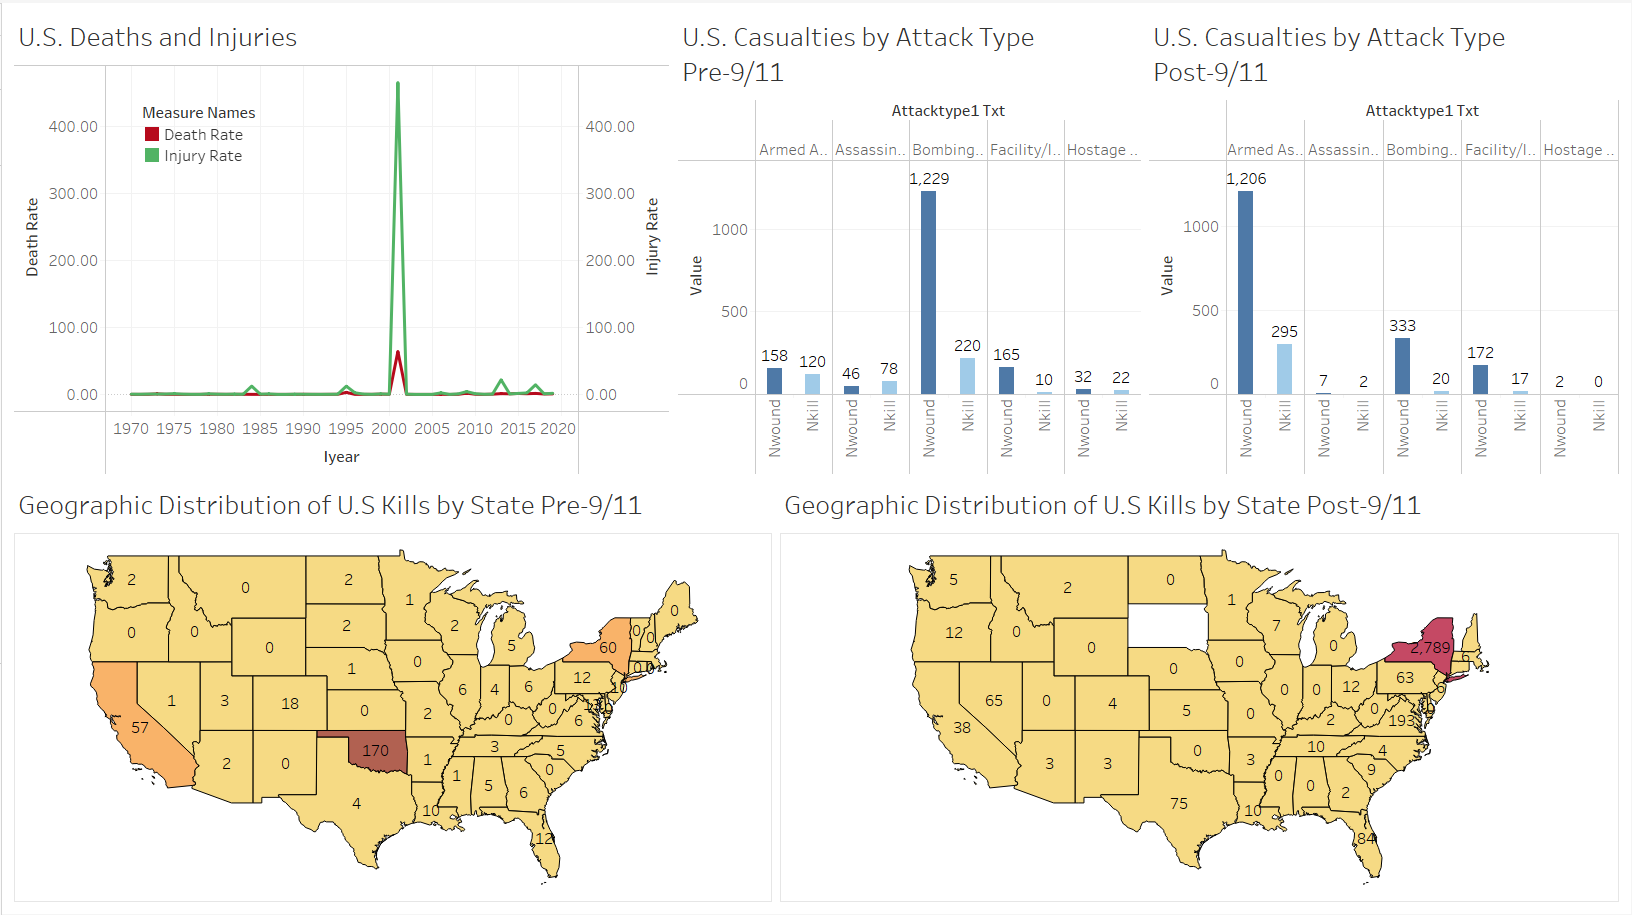

The dashboard page shown, as its layout file describes it:
{"tool":"tableau","page":{"name":"Effects of 9/11 on U.S. Terrorism","canvas":[1000,1000],"units":"permille","ordinal":0},"visuals":[{"type":"worksheet","box":[0,0,1000,1000]},{"type":"worksheet","param":"horz","box":[5.1,8.8,989.9,982.4]},{"type":"worksheet","box":[5.1,8.8,989.9,982.4]},{"type":"worksheet","title":"U.S. Deaths and Injuries","mark":"Automatic","rows":["Calculation_898468179244232705","Calculation_898468179249016834"],"cols":["iyear"],"box":[5.1,8.8,407.2,513.7]},{"type":"worksheet","title":"U.S. Casualties by Attack Type Pre-9/11","mark":"Bar","cols":["attacktype1_txt"],"box":[412.3,8.8,289.4,513.7]},{"type":"worksheet","title":"U.S. Casualties by Attack Type Post-9/11","mark":"Bar","cols":["attacktype1_txt"],"box":[701.7,8.8,293.2,513.7]},{"type":"worksheet","title":"U.S. Deaths and Injuries","mark":"Automatic","rows":["Calculation_898468179244232705","Calculation_898468179249016834"],"cols":["iyear"],"param":"[federated.0vspcdp0v9njc21co1hia1xtu0lf].[:Measure Names]","box":[86.1,108.7,88.7,70.2]},{"type":"worksheet","title":"Geographic Distribution of U.S Kills by State Pre-9/11","mark":"Multipolygon","box":[5.1,522.5,469.9,468.7]},{"type":"worksheet","title":"Geographic Distribution of U.S Kills by State Post-9/11","mark":"Multipolygon","box":[475,522.5,520,468.7]}]}

Visuals, with their boxes on the dashboard's canvas, which has no fixed pixel size, in thousandths of its width and height (x1, y1, x2, y2). These are canvas units, not pixel positions in the 1632x915 screenshot, which may show the page scaled, cropped or inside an application window:
worksheet: pyautogui.locateOnScreen(0, 0, 1000, 1000)
worksheet: pyautogui.locateOnScreen(5, 9, 995, 991)
worksheet: pyautogui.locateOnScreen(5, 9, 995, 991)
"U.S. Deaths and Injuries" worksheet: pyautogui.locateOnScreen(5, 9, 412, 522)
"U.S. Casualties by Attack Type Pre-9/11" worksheet (Bar marks): pyautogui.locateOnScreen(412, 9, 702, 522)
"U.S. Casualties by Attack Type Post-9/11" worksheet (Bar marks): pyautogui.locateOnScreen(702, 9, 995, 522)
"U.S. Deaths and Injuries" worksheet: pyautogui.locateOnScreen(86, 109, 175, 179)
"Geographic Distribution of U.S Kills by State Pre-9/11" worksheet (Multipolygon marks): pyautogui.locateOnScreen(5, 522, 475, 991)
"Geographic Distribution of U.S Kills by State Post-9/11" worksheet (Multipolygon marks): pyautogui.locateOnScreen(475, 522, 995, 991)
